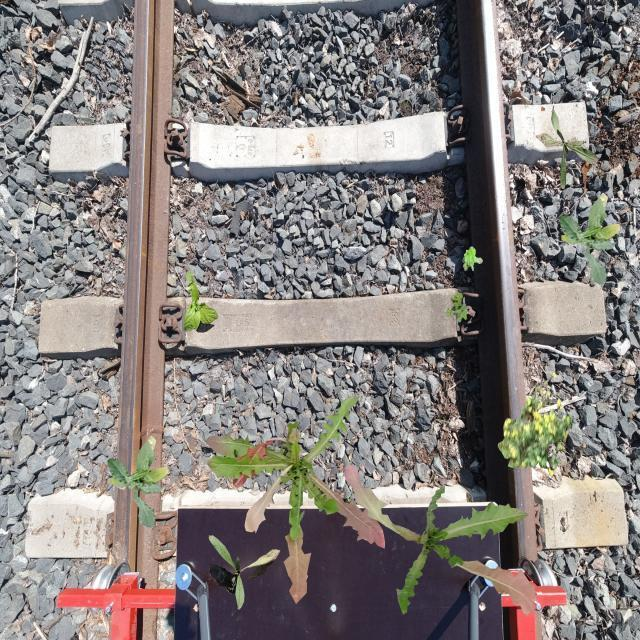Plant: (206, 396, 386, 604), (344, 464, 536, 616), (498, 372, 573, 477), (559, 192, 622, 286), (107, 435, 170, 528), (536, 106, 600, 190), (209, 535, 280, 610), (183, 270, 218, 332), (446, 292, 470, 322), (462, 246, 482, 271)
